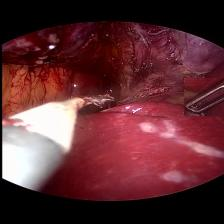Grasper: (183, 78, 224, 116)
Hook: (0, 93, 123, 147)
